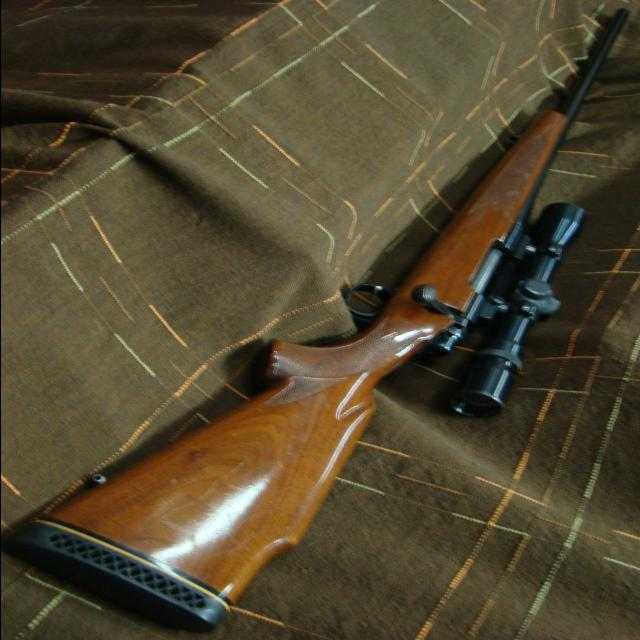heavyweapon: (1, 3, 640, 640)
